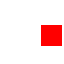square: (41, 25, 61, 45)
